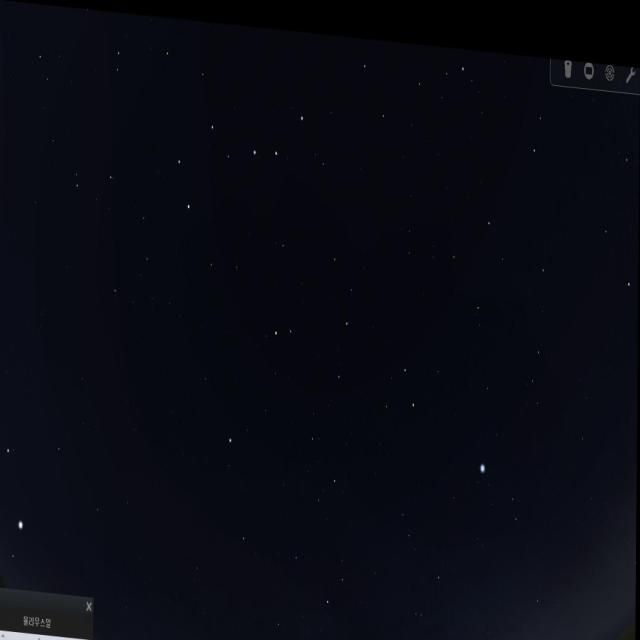lyra: (476, 437, 526, 531)
ursa_major: (173, 77, 308, 221)
